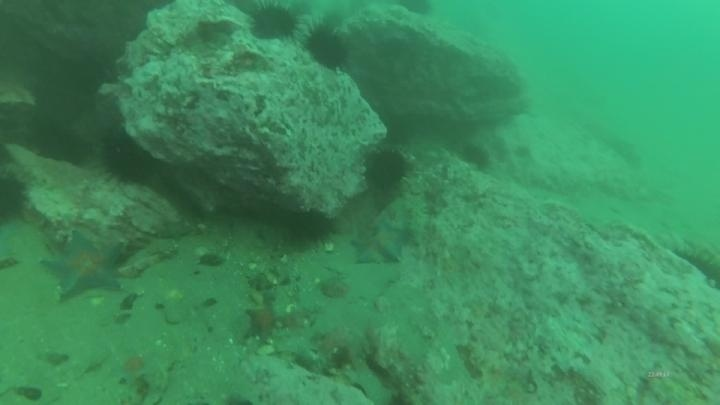echinus: (98, 130, 157, 187), (29, 119, 90, 168), (362, 145, 411, 195), (303, 23, 351, 72), (671, 242, 720, 290), (246, 2, 301, 43), (283, 206, 336, 247), (0, 167, 31, 226), (457, 141, 493, 172), (396, 0, 435, 19)
holothurian: (117, 237, 180, 280)
starfish: (40, 229, 128, 302), (349, 217, 413, 267), (242, 294, 281, 343)
